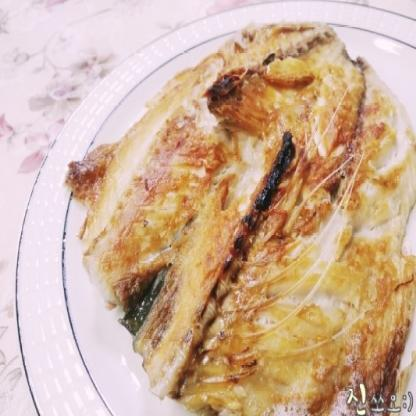Peixe: (67, 18, 416, 397)
